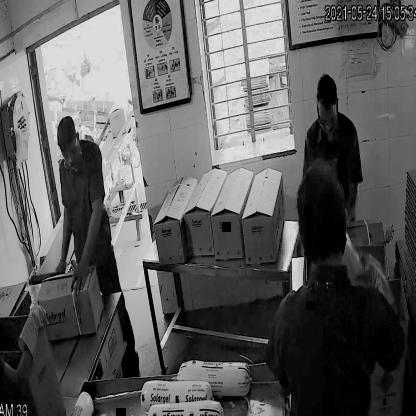goggles: (57, 139, 80, 165), (318, 111, 340, 131)
